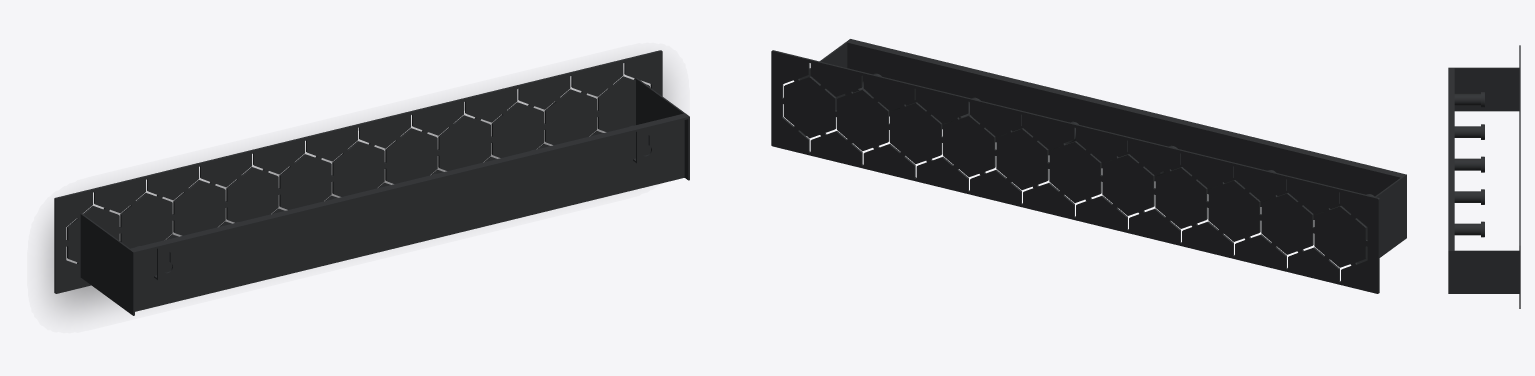
File: bee-hook.ddd165c31e.ar.glb
3 views of the same model, side by side, from view 1: azimuth 30°, elevation 25°; view 2: azimuth 150°, elevation 25°; view 3: azimuth 270°, elevation 25° (orthographic). The views are drawn at different scales.
Parts seen in each view (by area): view 1: NAUO1, object 2; view 2: NAUO1; view 3: NAUO1.
Part boxes in pixels (<box>): NAUO1: <box>54,50,689,315</box>; object 2: <box>46,67,669,310</box>; NAUO1: <box>771,39,1406,293</box>; NAUO1: <box>1448,45,1520,308</box>.
Bounding box in the file's own units: 0.68 × 0.17 × 0.092.
2 materials, 1 textured.
